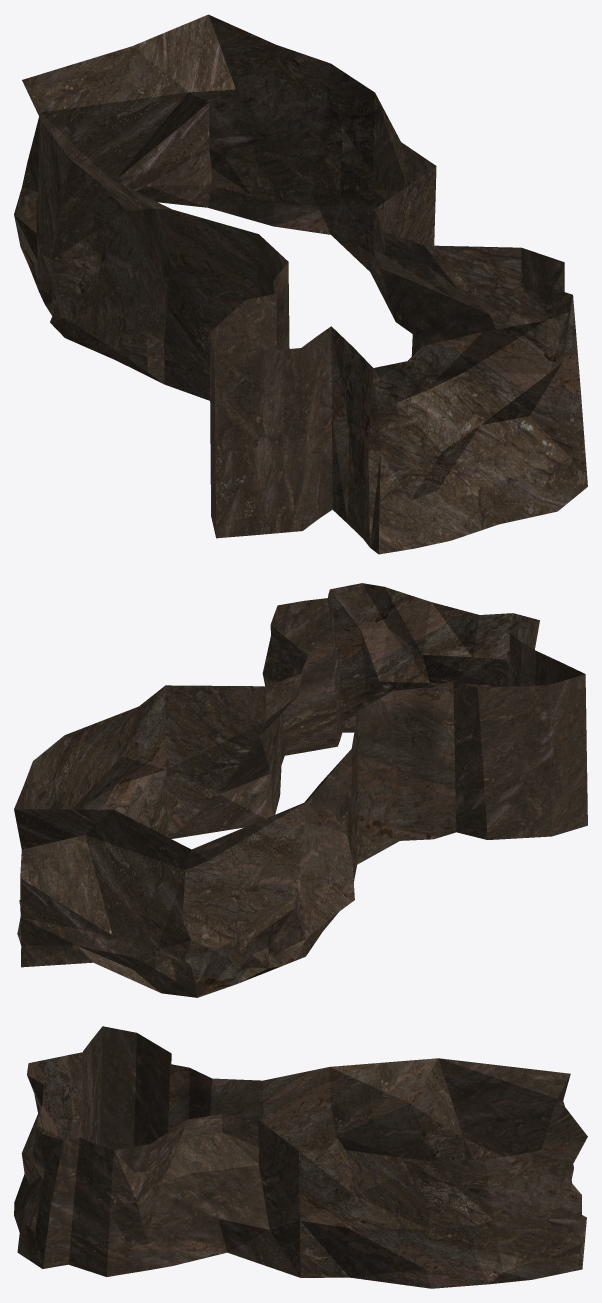
File: Room_0.2.fbx
3 views of the same model, one above another, from view 1: azimuth 30°, elevation 25°; view 2: azimuth 150°, elevation 25°; view 3: azimuth 270°, elevation 25° (orthographic). The views are drawn at different scales.
Visible parts, largest first — view 1: Cube; view 2: Cube; view 3: Cube.
Part boxes in pixels (box(x1,y1,x2,y2)): Cube: box(14, 14, 587, 554); Cube: box(14, 583, 587, 997); Cube: box(14, 1026, 587, 1288).
Size of the model in its own units: 2498 by 1233 by 4491.
